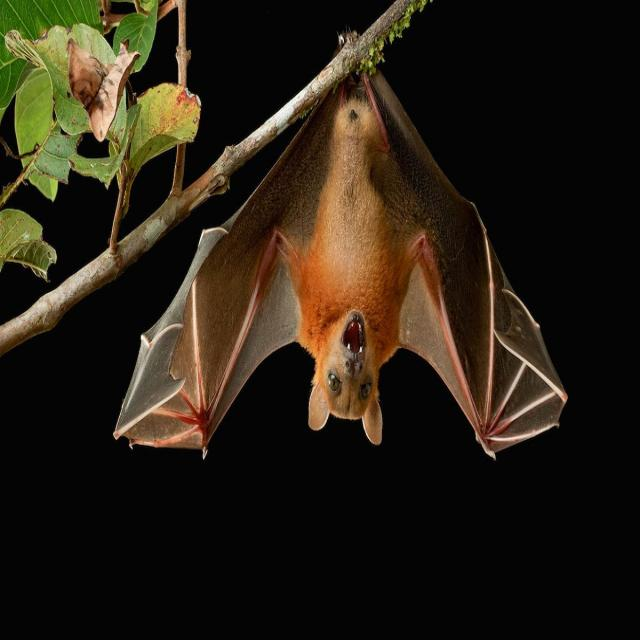bat: (115, 70, 567, 457)
